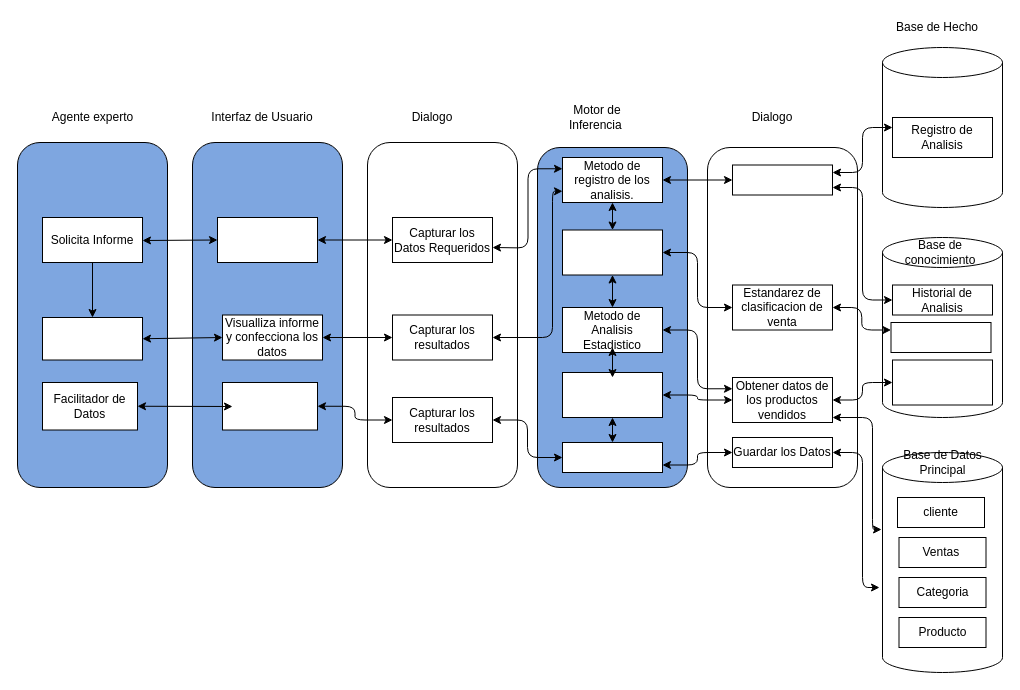
Some shapes in this 1020 by 690 pixel diagram are drawn without their labels. Here are the shapes that lost their labels. From the top down, the centre of each, then its label:
At (782,179): "Guardar".
At (267,239): "Requiere Programar para los datos datos.".
At (612,252): "Metodos de Predecir Ventas".
At (92,338): "Analiza resultados del modulo".
At (940,337): "Matriz ADL".
At (612,395): "Metodos de categoria de productos".
At (942,382): "Metodo estadistico de Holt".
At (270,406): "Obtener Datos".
At (612,457): "Metodo de Guardar".
